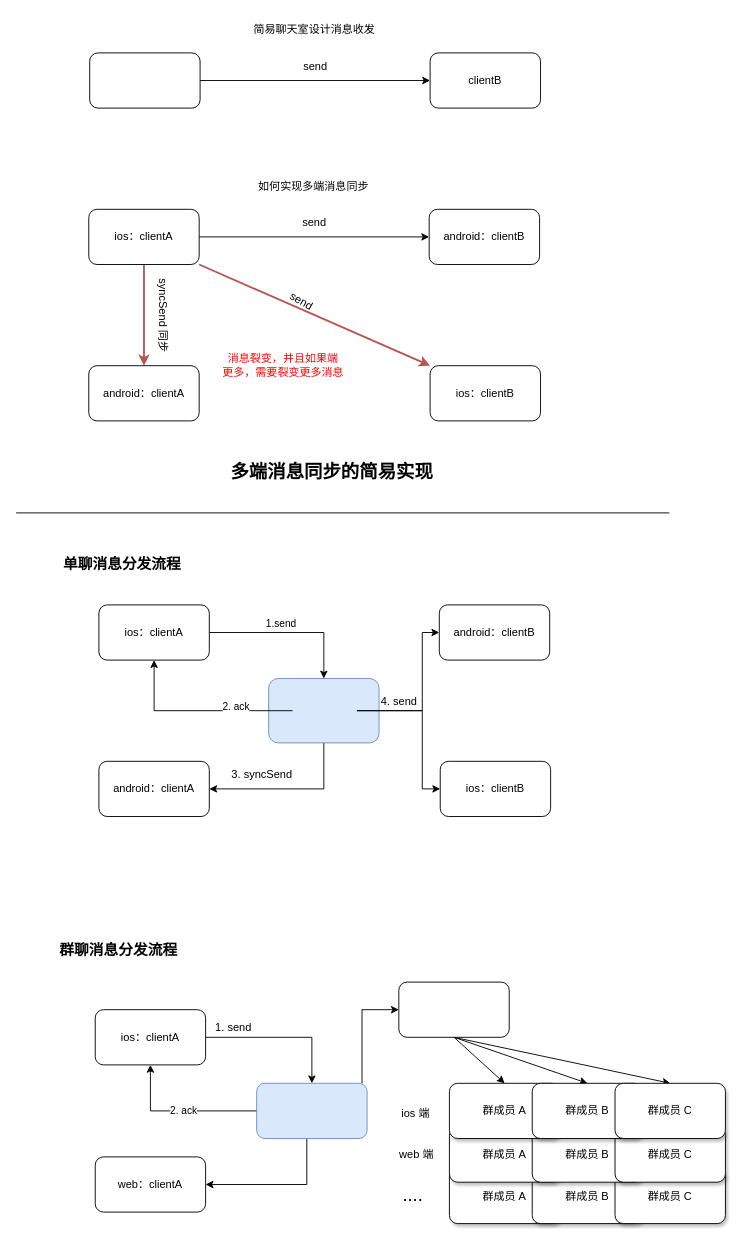
Image size: 747x1246. Some labels were removed from this diagram. Here are the shapes that lost their labels. From the top down, the centre of each, then its label:
At pixel 144 80: "clientA".
At pixel 323 710: "单聊服务".
At pixel 453 1009: "查询该群群成员".
At pixel 311 1110: "群聊服务".
